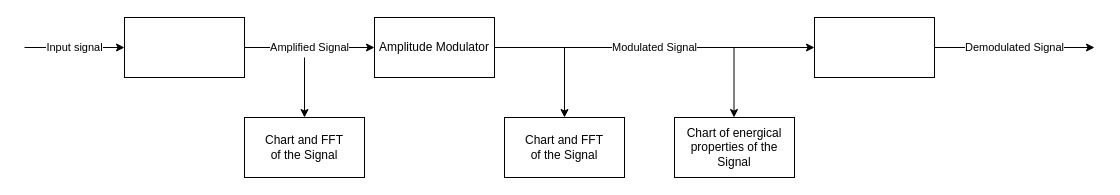
Image size: 1120x195. Some labels were removed from this diagram. The shapes that lost their labels are listed below. From the top down, each one's centre as x and y in pixels, then its label:
(184,47): Amplifier
(874,47): Amplitude Demodulator
